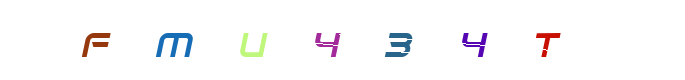3: (297, 0, 377, 80)
4: (252, 0, 332, 80), (304, 0, 384, 80)
F: (213, 0, 293, 80)
M: (238, 0, 318, 80)
T: (436, 0, 516, 80)
U: (248, 0, 328, 80)
